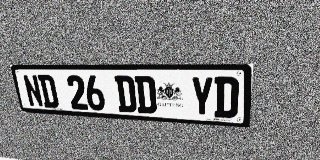2: (66, 75, 88, 110)
6: (83, 75, 106, 111)
D: (214, 77, 239, 118), (114, 75, 137, 113), (134, 76, 157, 114), (37, 75, 60, 108)
N: (22, 74, 44, 107)
Y: (190, 76, 214, 117)
